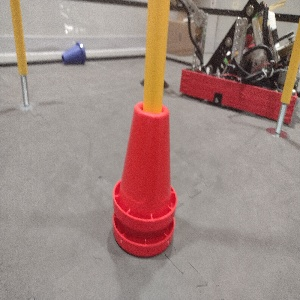Blue_1: (59, 39, 87, 66)
Red_2: (112, 99, 176, 257)
